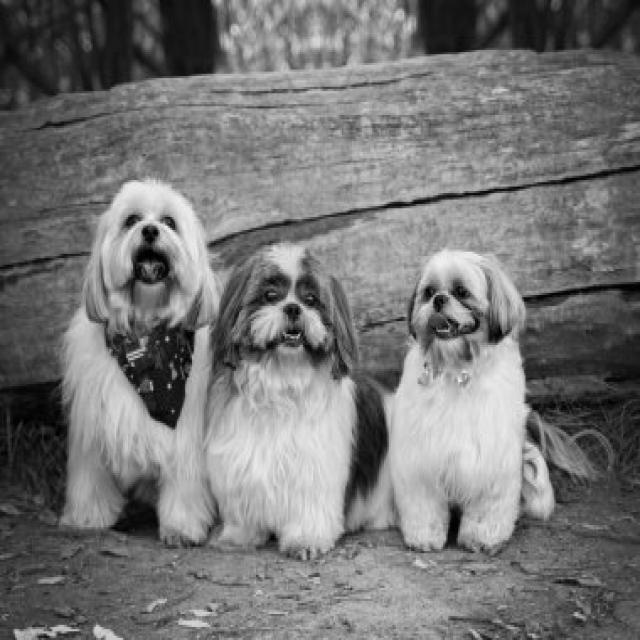Animal: (390, 250, 594, 553), (206, 243, 394, 558), (61, 180, 218, 545)
